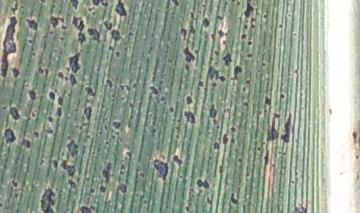tarspot: (1, 14, 23, 80), (71, 13, 87, 50), (38, 185, 58, 213), (264, 112, 280, 147), (281, 110, 295, 149), (65, 131, 83, 160), (65, 48, 85, 74), (149, 157, 170, 179), (180, 43, 200, 64), (205, 63, 227, 82), (59, 158, 79, 176), (47, 13, 66, 31), (112, 1, 129, 21), (100, 158, 113, 183), (24, 16, 42, 34), (193, 175, 213, 191), (86, 24, 101, 45), (180, 109, 198, 125), (243, 1, 258, 20), (3, 124, 15, 147), (290, 201, 312, 213), (230, 64, 245, 81), (207, 101, 219, 120), (36, 64, 51, 79), (67, 73, 82, 88), (8, 105, 21, 122), (200, 13, 213, 30), (176, 24, 188, 42), (110, 29, 125, 43), (54, 70, 68, 85), (261, 148, 271, 168), (75, 202, 93, 213), (171, 151, 183, 167), (147, 83, 161, 96), (261, 93, 275, 106), (66, 178, 79, 192), (9, 176, 21, 191), (26, 87, 38, 102), (216, 163, 228, 178), (117, 81, 132, 93), (115, 182, 131, 193), (19, 137, 32, 150), (83, 84, 96, 97), (183, 93, 196, 106), (229, 191, 240, 206), (82, 105, 93, 120), (221, 130, 230, 148), (104, 76, 116, 89), (222, 49, 234, 62), (8, 1, 20, 14), (50, 156, 61, 170), (68, 1, 82, 12), (188, 22, 197, 39), (10, 66, 21, 79), (111, 118, 122, 131), (43, 126, 55, 137), (218, 27, 229, 39), (91, 1, 109, 8), (203, 194, 214, 205), (205, 151, 216, 162), (97, 183, 107, 195), (47, 90, 57, 102), (56, 94, 66, 106), (126, 28, 136, 40), (124, 150, 136, 160), (54, 105, 63, 118), (195, 79, 206, 89), (210, 141, 220, 152), (106, 42, 117, 52), (239, 84, 249, 95), (138, 170, 147, 182), (168, 1, 183, 8), (209, 30, 217, 43), (45, 115, 55, 125), (186, 10, 196, 20), (239, 30, 248, 41), (29, 48, 38, 59), (229, 123, 237, 135), (95, 63, 102, 76), (26, 36, 35, 46), (215, 13, 224, 23), (254, 143, 264, 152), (119, 170, 129, 179), (259, 58, 267, 69), (59, 148, 67, 159), (58, 33, 66, 44), (118, 162, 129, 170), (245, 51, 254, 60), (242, 99, 251, 108), (277, 21, 286, 30), (166, 105, 176, 113), (183, 62, 191, 72), (30, 110, 38, 120), (182, 205, 192, 213), (150, 125, 157, 136), (88, 187, 96, 196), (32, 130, 40, 139), (278, 92, 286, 101), (261, 12, 270, 20), (237, 155, 245, 164), (243, 170, 251, 179), (38, 157, 46, 166), (127, 100, 135, 109), (213, 48, 220, 58), (1, 102, 7, 113), (173, 133, 181, 140), (84, 176, 92, 183), (211, 81, 218, 88), (60, 24, 67, 31), (1, 201, 7, 209), (13, 192, 21, 198), (236, 1, 242, 8), (87, 6, 93, 12), (39, 1, 47, 5), (230, 1, 237, 5)
